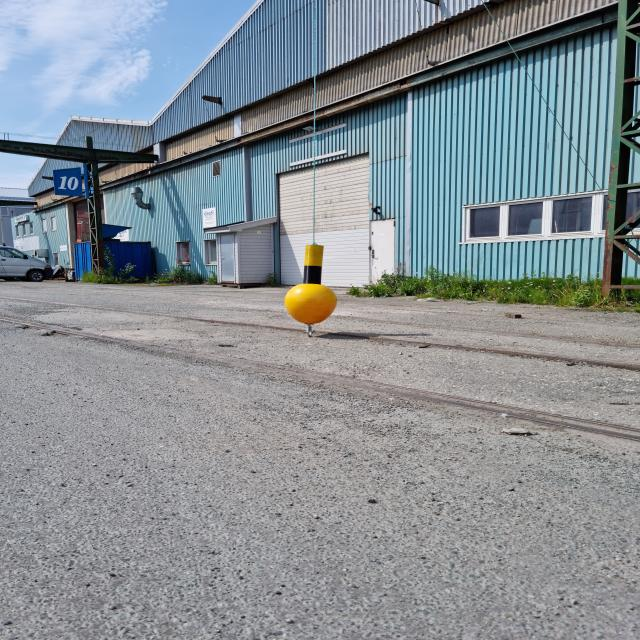west: (287, 244, 339, 324)
